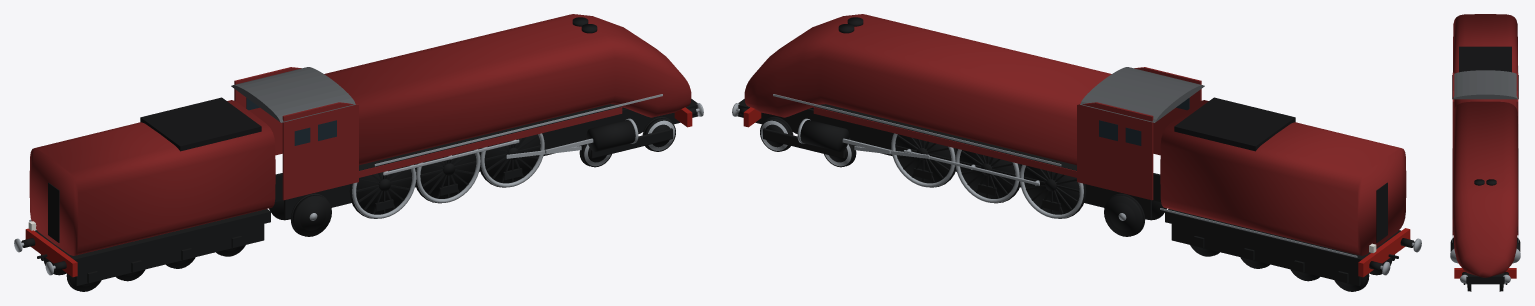
The model's file is ginzu_a4.glb.
The picture shows the model from 3 angles, left to right: view 1: azimuth 30°, elevation 25°; view 2: azimuth 150°, elevation 25°; view 3: azimuth 270°, elevation 25°; orthographic projection. The views are drawn at different scales.
Visible parts, largest first — view 1: casco, tender_corpo, cab_lado.001, tender_carvao, cab_teto, tender_quadro, tender_longarina.001, quadro.001, estrado_borda.001, estrado, motriz_fundo-1.002, motriz_fundo-1.001 (+13 smaller); view 2: casco, tender_corpo, cab_lado, tender_carvao, cab_teto, tender_longarina, tender_quadro, quadro, estrado_borda, estrado, motriz_fundo1.002, motriz_fundo1.001 (+14 smaller); view 3: casco, tender_corpo, cab_teto, tender_carvao, frente_baixa, viga, cab_lado, cab_lado.001, friso_casco, friso_casco.001, cilindro_tampa, cilindro_tampa.001 (+2 smaller).
Part boxes in pixels (<box>): casco: <box>324,14,691,165</box>; tender_corpo: <box>29,100,275,255</box>; cab_lado.001: <box>282,102,358,200</box>; tender_carvao: <box>140,97,261,151</box>; cab_teto: <box>231,67,355,122</box>; tender_quadro: <box>34,209,270,269</box>; tender_longarina.001: <box>75,224,264,285</box>; quadro.001: <box>284,108,680,218</box>; estrado_borda.001: <box>359,107,622,177</box>; estrado: <box>359,104,621,170</box>; motriz_fundo-1.002: <box>356,165,411,214</box>; motriz_fundo-1.001: <box>420,150,476,198</box>; casco: <box>744,14,1111,165</box>; tender_corpo: <box>1160,100,1406,255</box>; cab_lado: <box>1077,102,1153,200</box>; tender_carvao: <box>1174,97,1295,151</box>; cab_teto: <box>1080,67,1204,122</box>; tender_longarina: <box>1171,224,1360,285</box>; tender_quadro: <box>1165,209,1401,269</box>; quadro: <box>755,108,1151,218</box>; estrado_borda: <box>813,107,1076,177</box>; estrado: <box>814,104,1076,170</box>; motriz_fundo1.002: <box>1024,165,1079,214</box>; motriz_fundo1.001: <box>959,150,1015,198</box>; casco: <box>1452,101,1518,277</box>; tender_corpo: <box>1453,14,1517,108</box>; cab_teto: <box>1452,70,1518,99</box>; tender_carvao: <box>1459,46,1511,72</box>; frente_baixa: <box>1466,272,1504,284</box>; viga: <box>1454,268,1516,278</box>; cab_lado: <box>1516,72,1518,123</box>; cab_lado.001: <box>1452,72,1454,123</box>; friso_casco: <box>1518,148,1518,242</box>; friso_casco.001: <box>1452,148,1452,242</box>; cilindro_tampa: <box>1513,248,1520,263</box>; cilindro_tampa.001: <box>1450,248,1457,263</box>.
Bounding box in the file's own units: 20.85 × 4.3 × 2.94.
